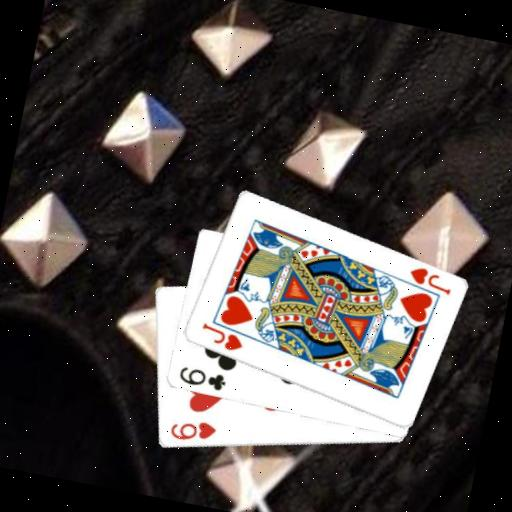6C: (174, 363, 228, 394)
6H: (166, 413, 219, 449)
JH: (195, 319, 247, 355), (403, 263, 455, 298)
